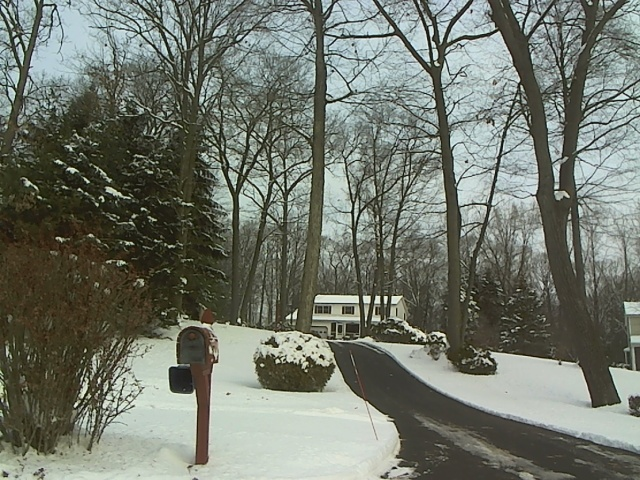Ploughed: (339, 343, 575, 468)
